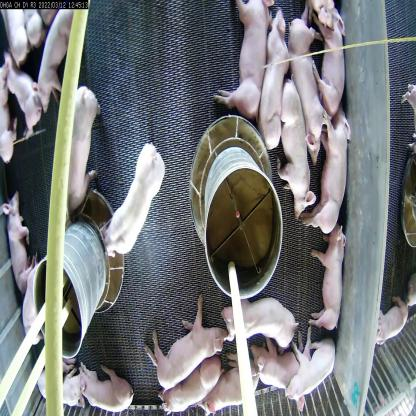Pig: (101, 140, 166, 260), (153, 300, 226, 381), (314, 113, 350, 268), (222, 1, 264, 130), (276, 69, 309, 217), (275, 333, 336, 411), (57, 89, 95, 210), (32, 10, 78, 100), (260, 13, 288, 149), (285, 33, 321, 138), (260, 340, 306, 416), (223, 303, 288, 349), (42, 363, 96, 415), (80, 353, 123, 416), (207, 368, 260, 416), (168, 369, 219, 416), (327, 239, 348, 353), (18, 267, 46, 350), (6, 50, 36, 122), (8, 190, 30, 281)
